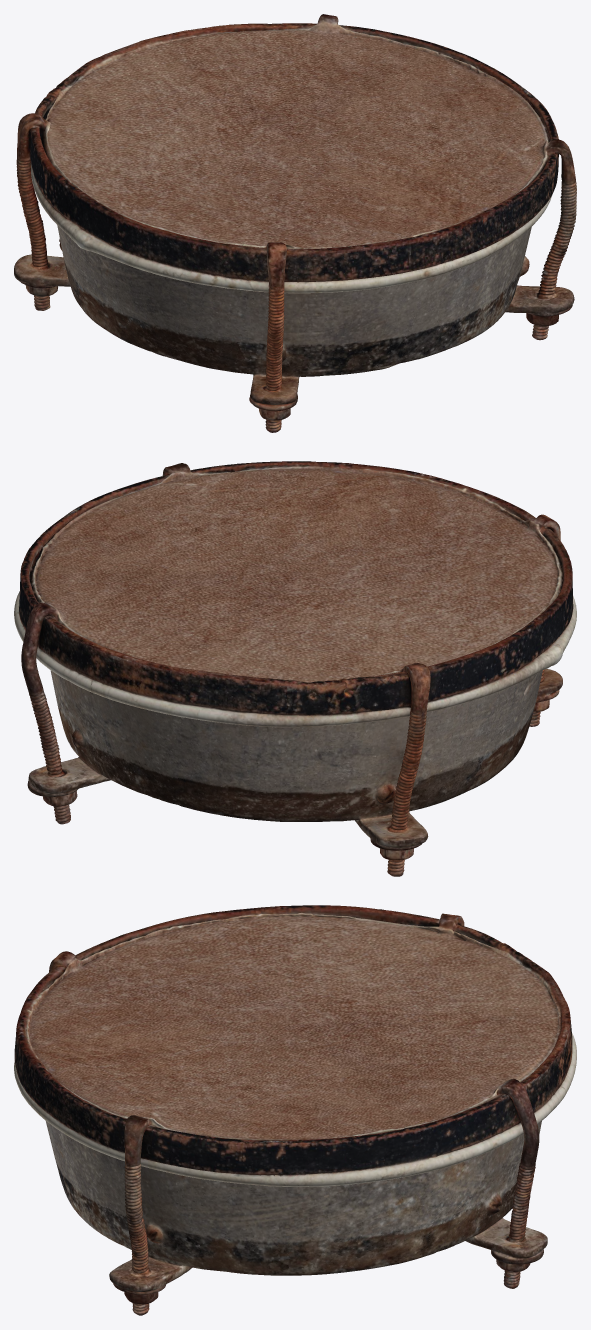
The model's file is nmah-1997_0097_1083-pandereta-100k-2048_std_draco.glb.
The picture shows the model from 3 angles, top to bottom: view 1: azimuth 30°, elevation 25°; view 2: azimuth 150°, elevation 25°; view 3: azimuth 270°, elevation 25°; orthographic projection. The views are drawn at different scales.
Size of the model in its own units: 0.1982 by 0.0838 by 0.1993.
1 material, 1 textured.
